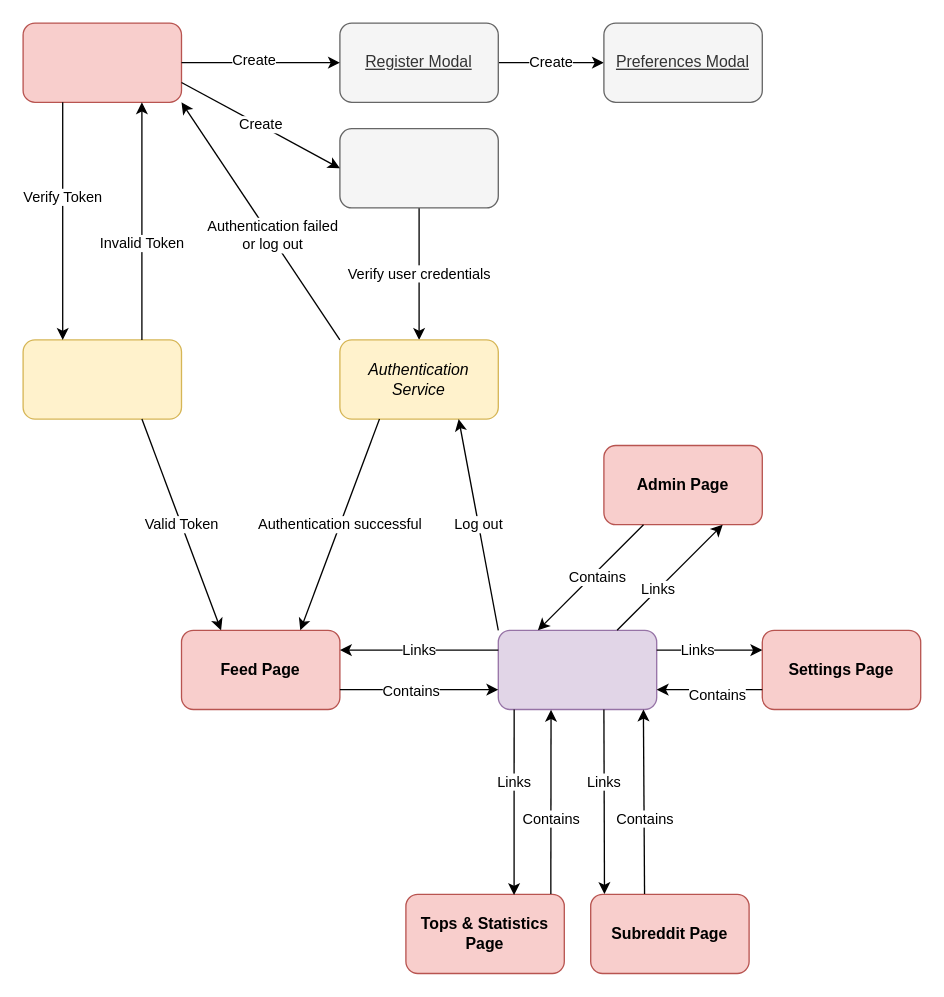
Image size: 944x997. Some labels were removed from this diagram. Each missing label, with the box of its shape:
JWT Verification: (22, 339, 182, 419)
Landing Page: (22, 22, 182, 102)
Login Modal: (339, 127, 498, 208)
Navbar: (497, 629, 657, 710)
